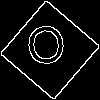O: (25, 25, 68, 74)
